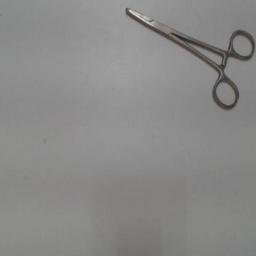Mayo Needle Holder: (122, 4, 256, 116)
